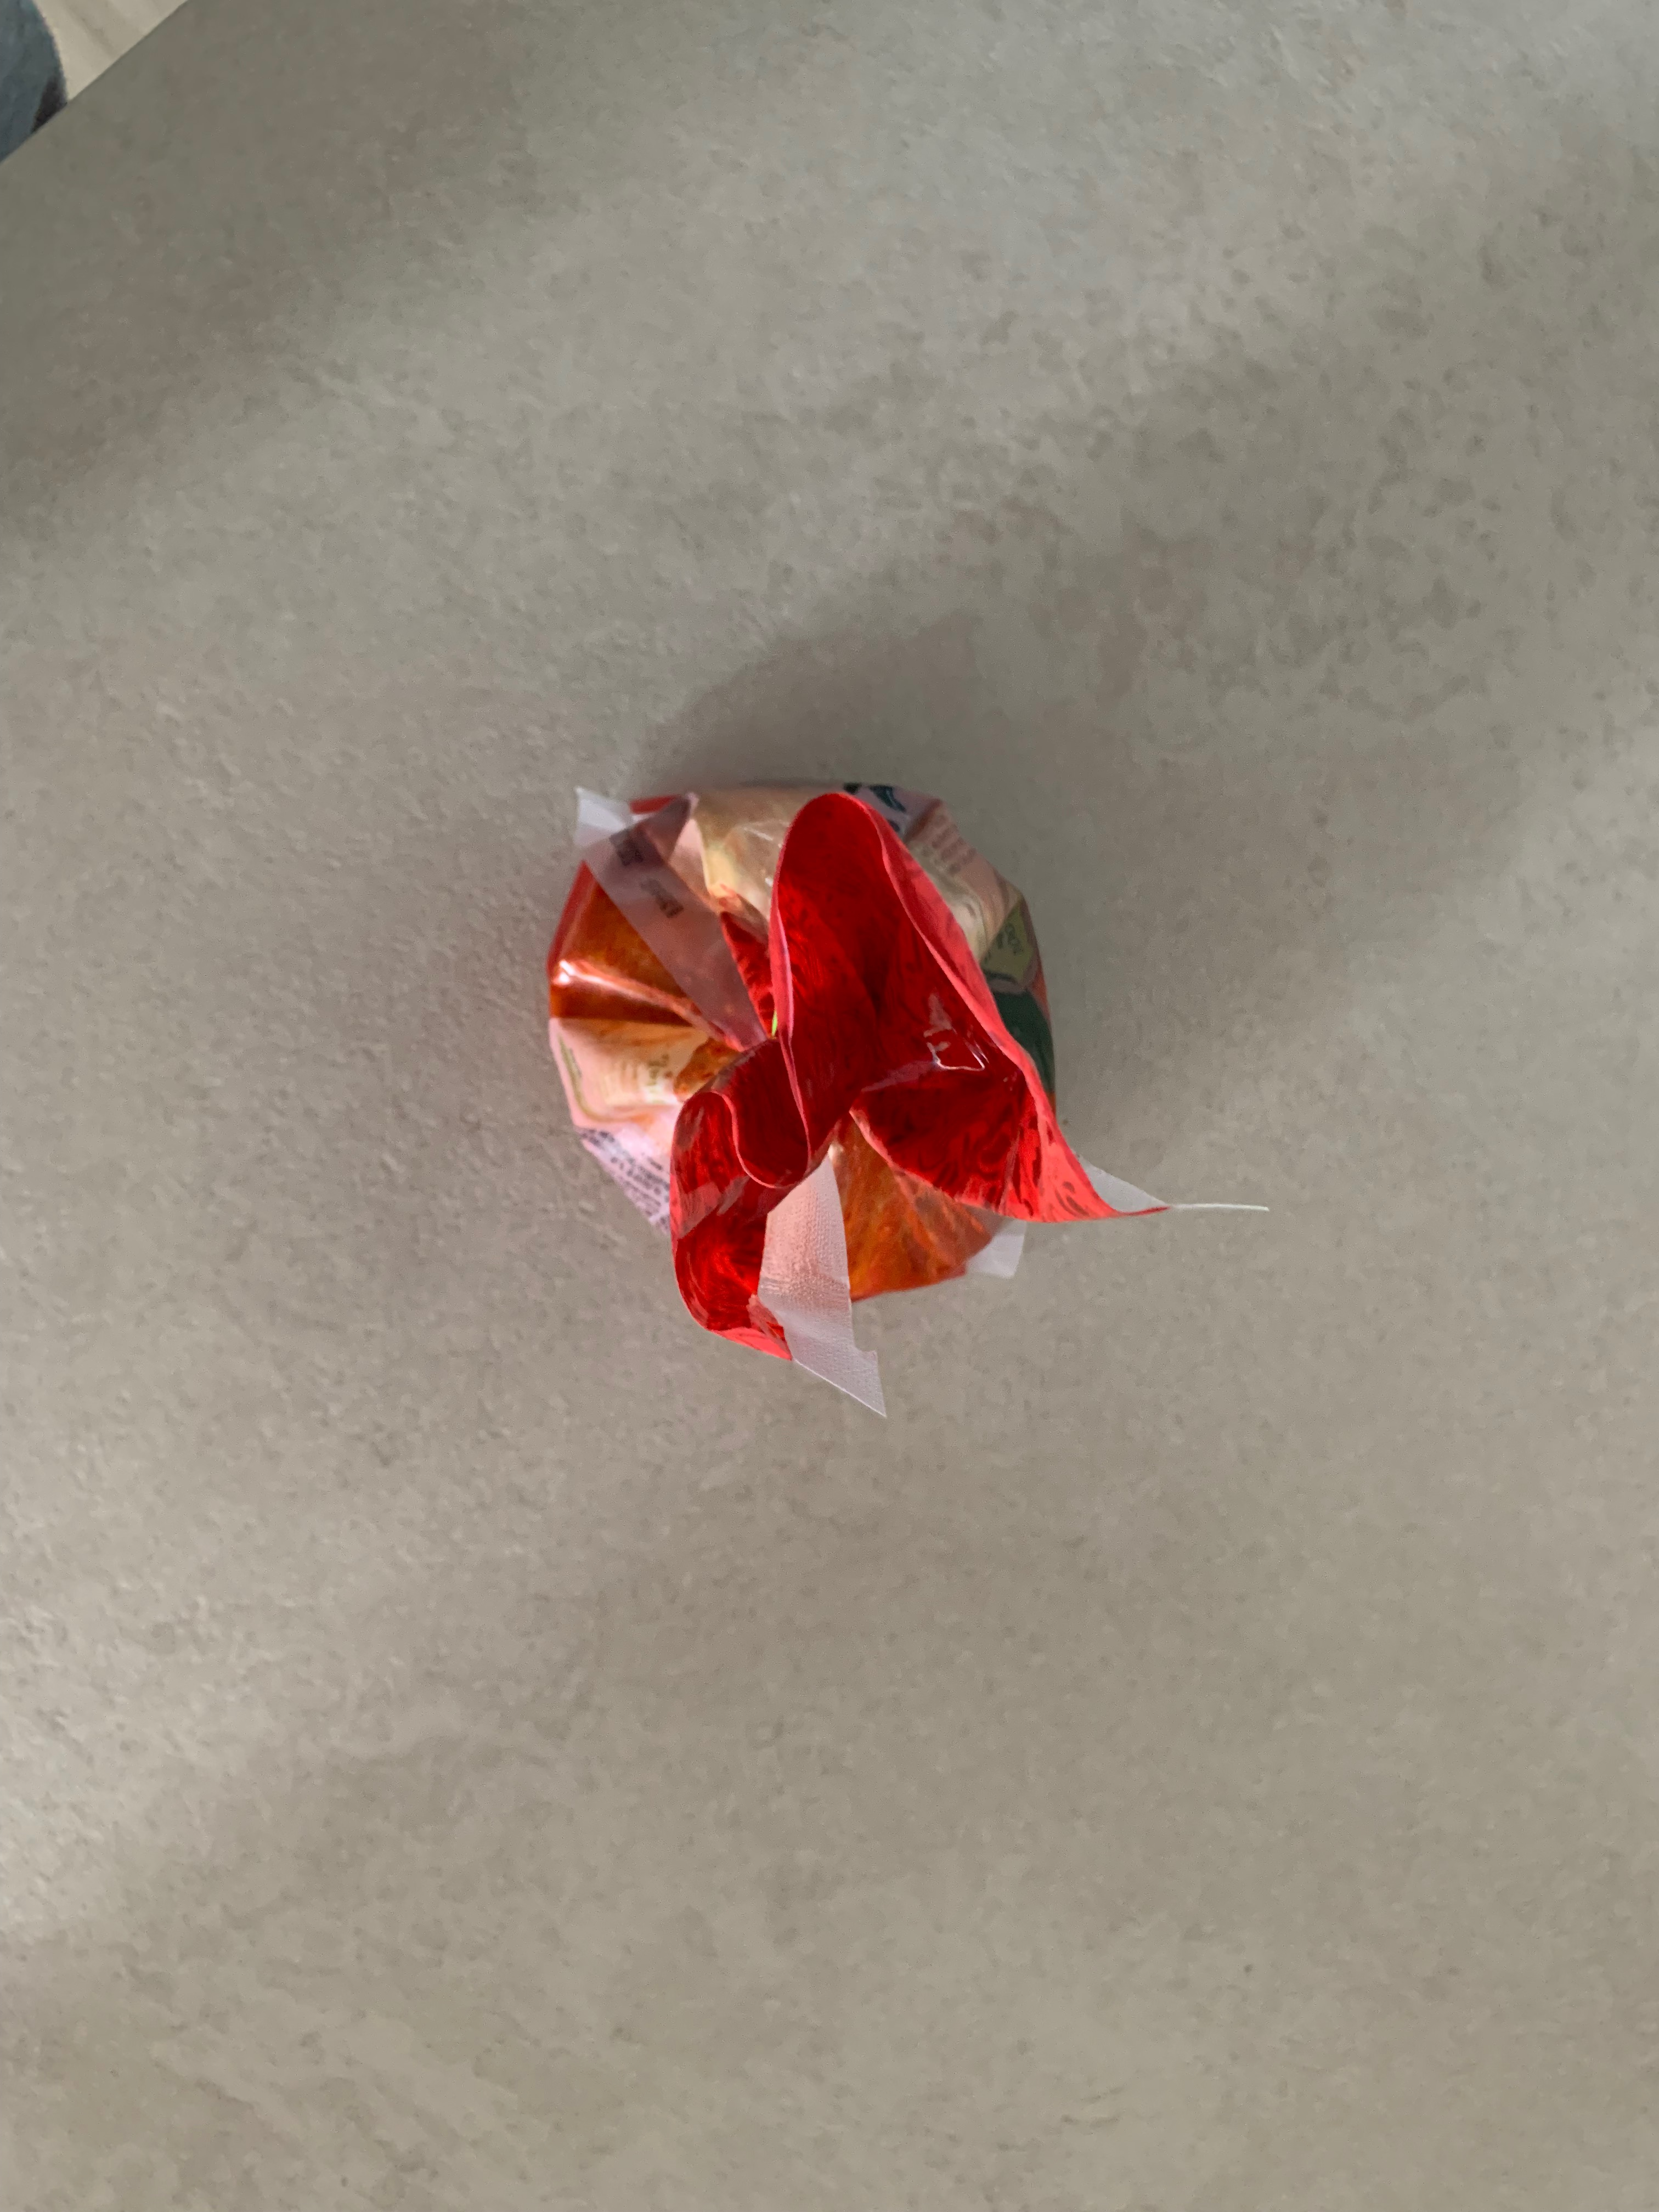kimchi: (544, 787, 1068, 1369)
